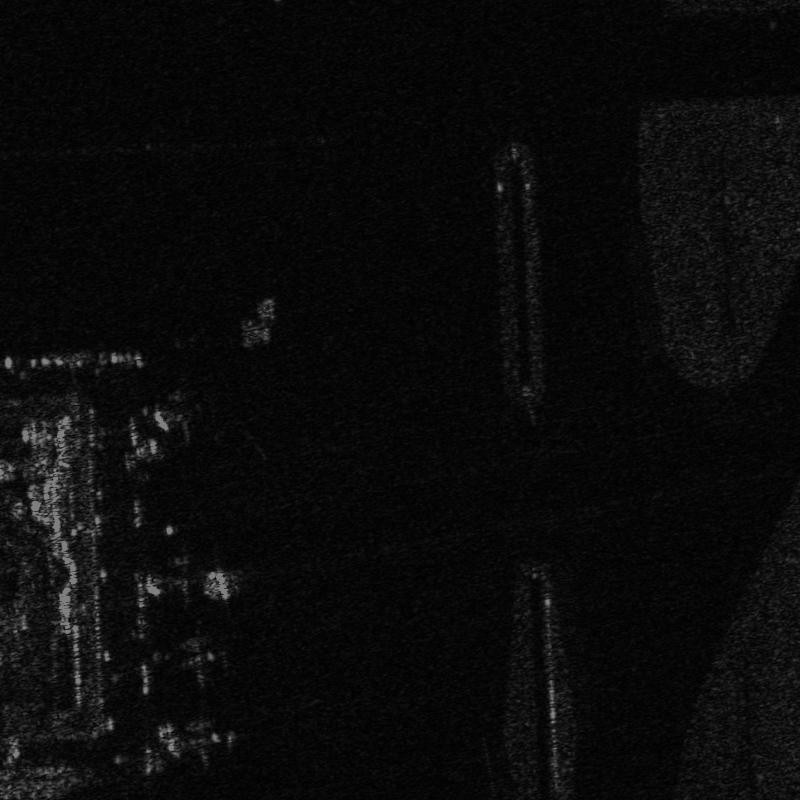A220: (137, 543, 252, 621), (152, 708, 248, 776), (140, 381, 222, 450), (158, 629, 237, 694)
